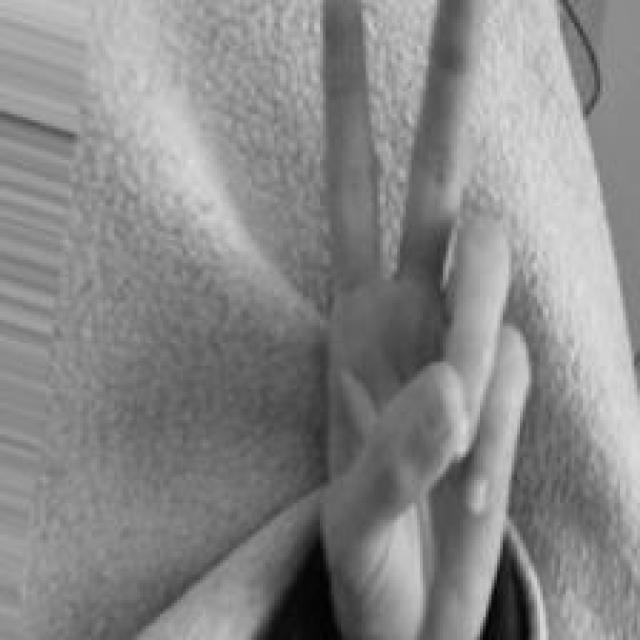V: (310, 0, 534, 640)
